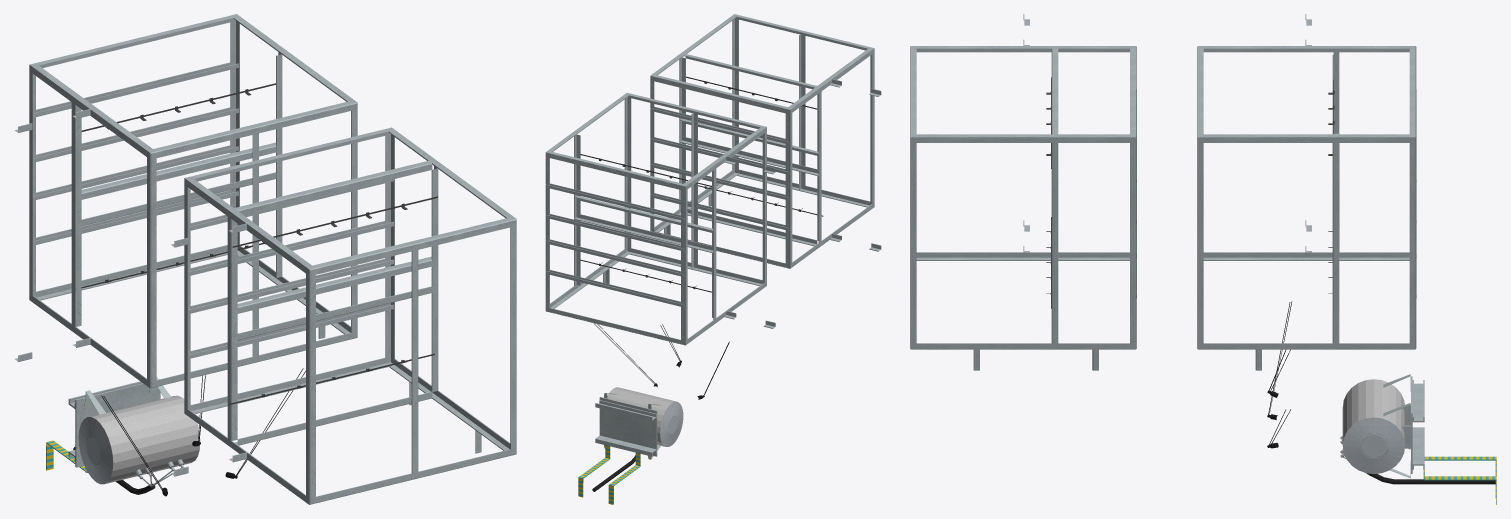
The picture shows the model from 3 angles, left to right: view 1: azimuth 30°, elevation 25°; view 2: azimuth 150°, elevation 25°; view 3: azimuth 270°, elevation 25°; orthographic projection. The views are drawn at different scales.
Visible parts, largest first — view 1: Node; view 2: Node; view 3: Node.
Boxes of the visible parts, x1,y1,x2,y2 form: Node: (14, 14, 516, 504); Node: (545, 14, 881, 504); Node: (910, 14, 1496, 504).
Size of the model in its own units: 2.33 by 3.6 by 4.68.
Materials: 10 (10 with a texture image).
